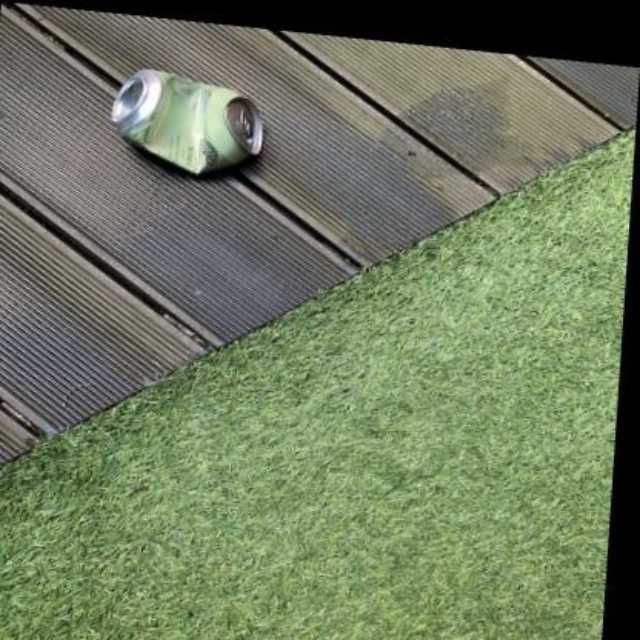trash: (111, 69, 262, 172)
